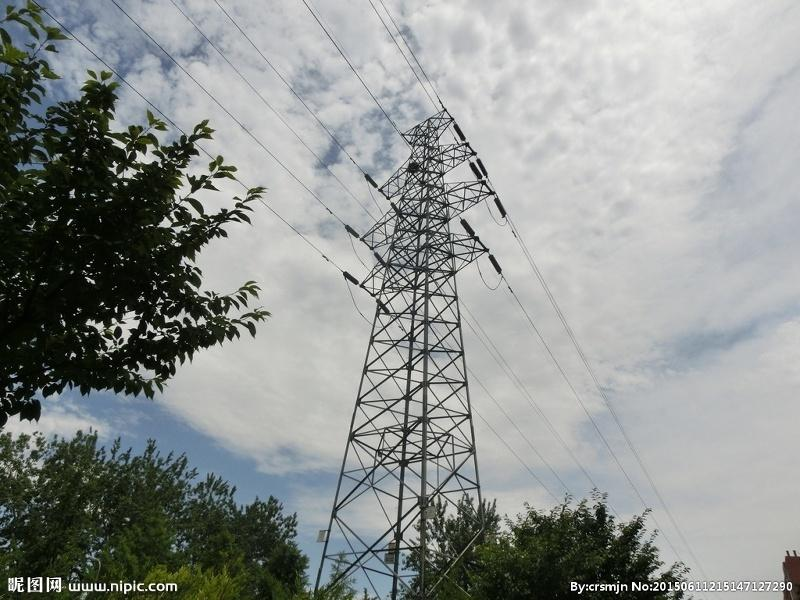power_tower: (319, 97, 508, 594)
